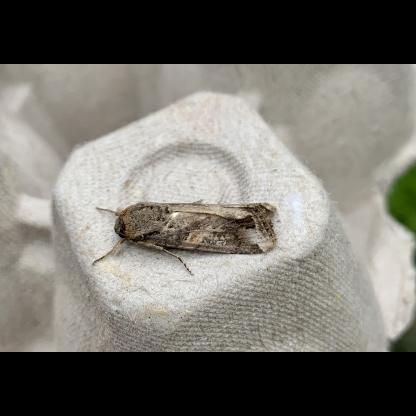Fall Armyworm Moth: (89, 195, 281, 278)
